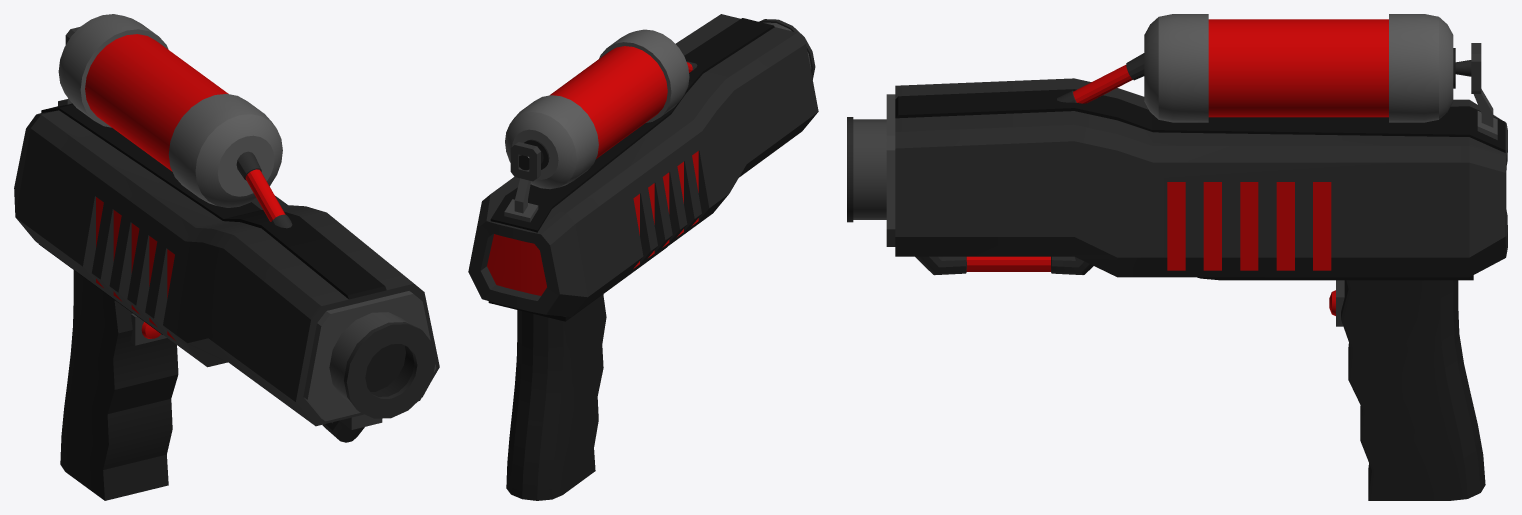
File: Blaster.fbx
3 views of the same model, side by side, from view 1: azimuth 30°, elevation 25°; view 2: azimuth 150°, elevation 25°; view 3: azimuth 270°, elevation 25° (orthographic). The views are drawn at different scales.
Parts seen in each view (by area): view 1: Blaster; view 2: Blaster; view 3: Blaster.
Boxes of the visible parts, x1=… form: Blaster: x1=14, y1=14, x2=439, y2=500; Blaster: x1=468, y1=14, x2=818, y2=500; Blaster: x1=847, y1=14, x2=1507, y2=500.
Bounding box in the file's own units: 10.18 × 30.73 × 39.48.
